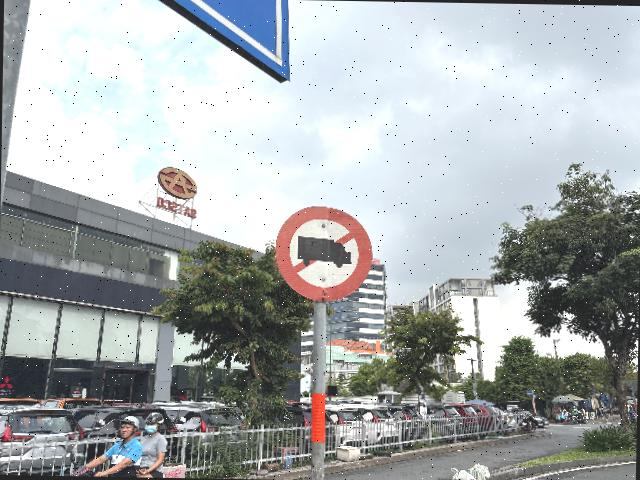cam-xe-tai: (275, 205, 373, 301)
